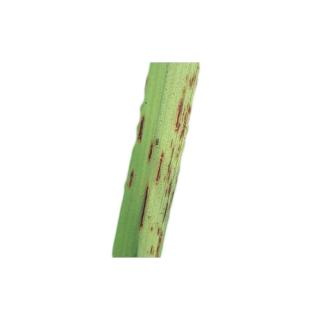Bercak-Cokelat-Sempit: (146, 138, 189, 190), (174, 86, 200, 131), (135, 189, 155, 230), (154, 225, 174, 258), (132, 117, 152, 140), (125, 168, 143, 186), (161, 200, 180, 217), (184, 73, 201, 84)
